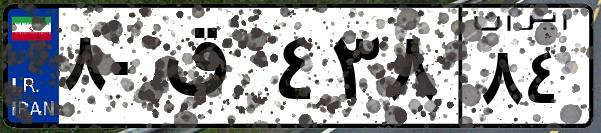0: (110, 28, 158, 98)
3: (330, 28, 385, 110)
4: (270, 28, 330, 110), (525, 38, 570, 115)
8: (385, 28, 445, 110), (57, 26, 110, 100), (475, 38, 525, 113)
ق: (158, 20, 270, 120)
